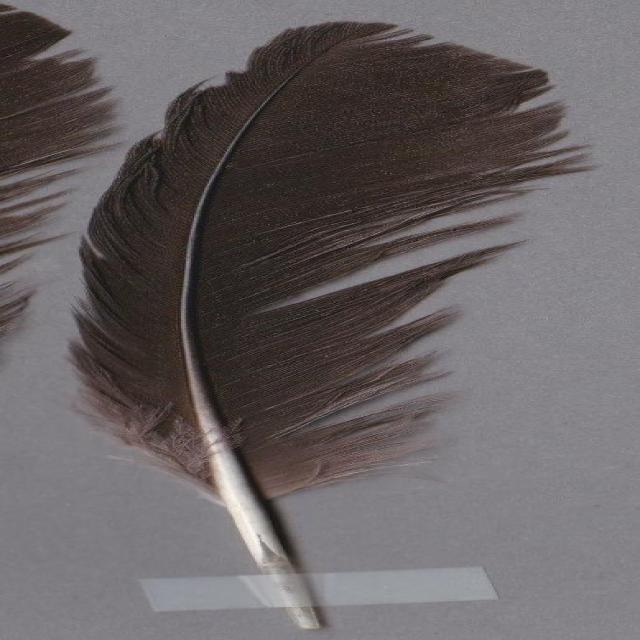feather: (27, 18, 640, 628)
